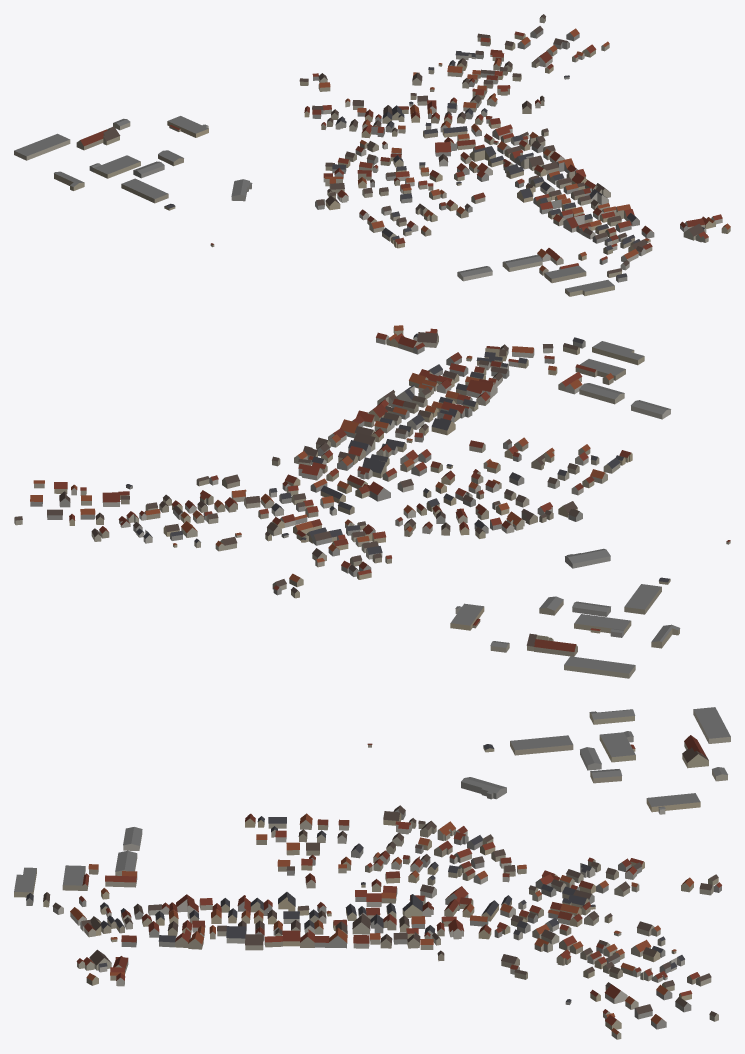
3 renders of one model, top to bottom at view 1: azimuth 30°, elevation 25°; view 2: azimuth 150°, elevation 25°; view 3: azimuth 270°, elevation 25°, orthographic. The views are drawn at different scales.
Parts seen in each view (by area): view 1: buildings; view 2: buildings; view 3: buildings.
Part boxes in pixels (x1=…): buildings: x1=14, y1=14, x2=730, y2=296; buildings: x1=14, y1=325, x2=730, y2=678; buildings: x1=14, y1=707, x2=730, y2=1039.
Bounding box in the file's own units: 802 × 20.91 × 738.
